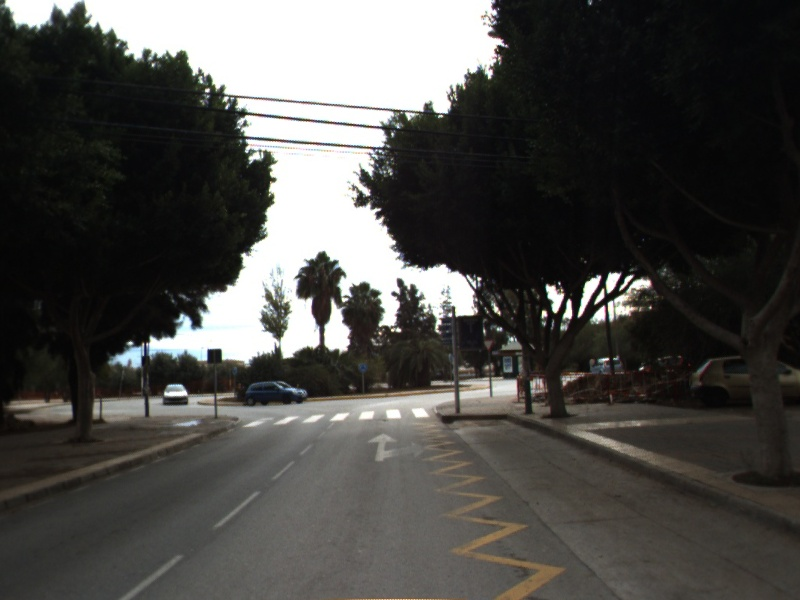STRAIGHT_RIGHT: (365, 431, 430, 463)
